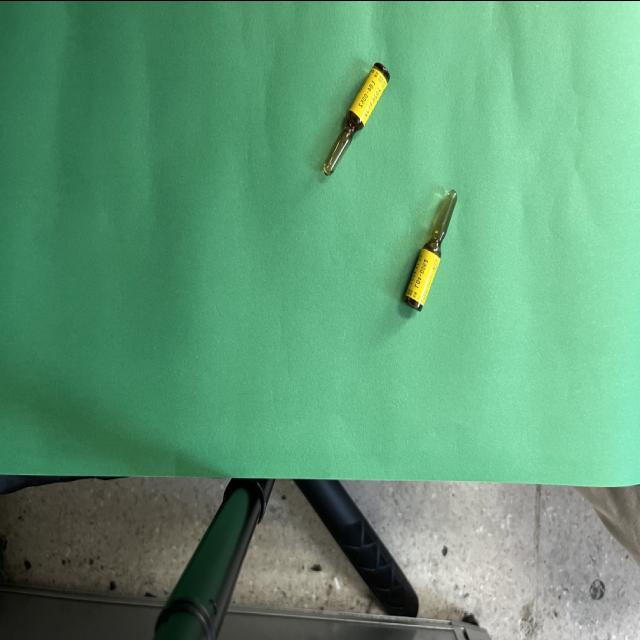Ampoules: (322, 61, 390, 174), (404, 188, 457, 311)
